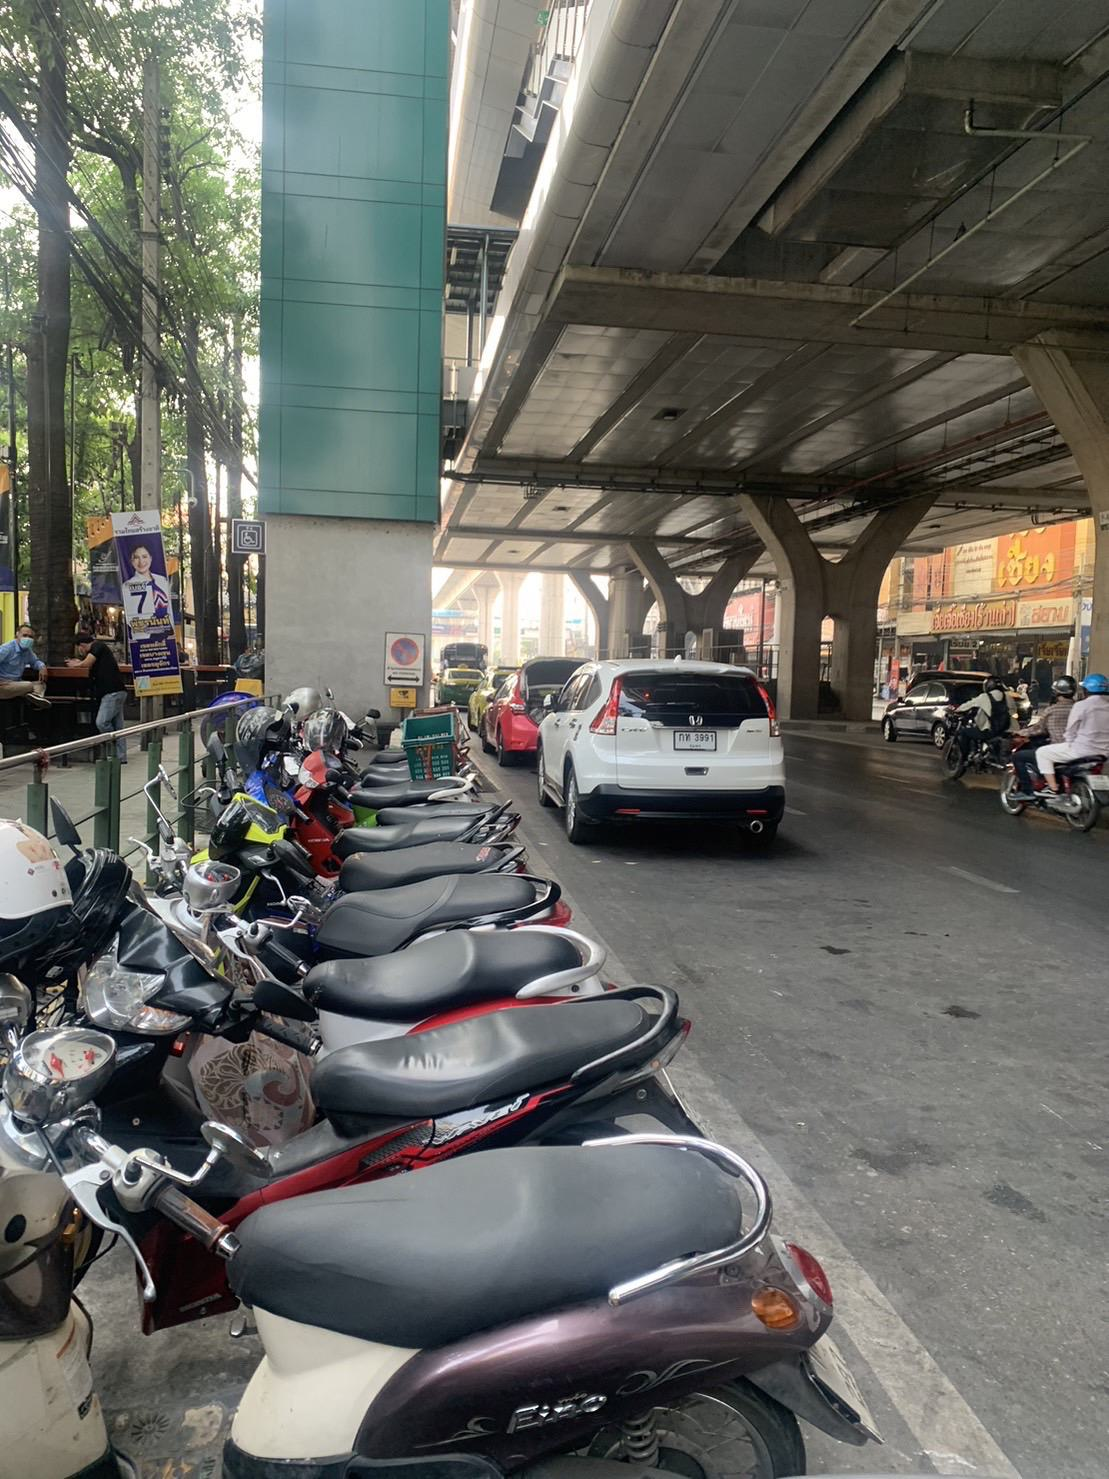Banner: (107, 508, 181, 696)
